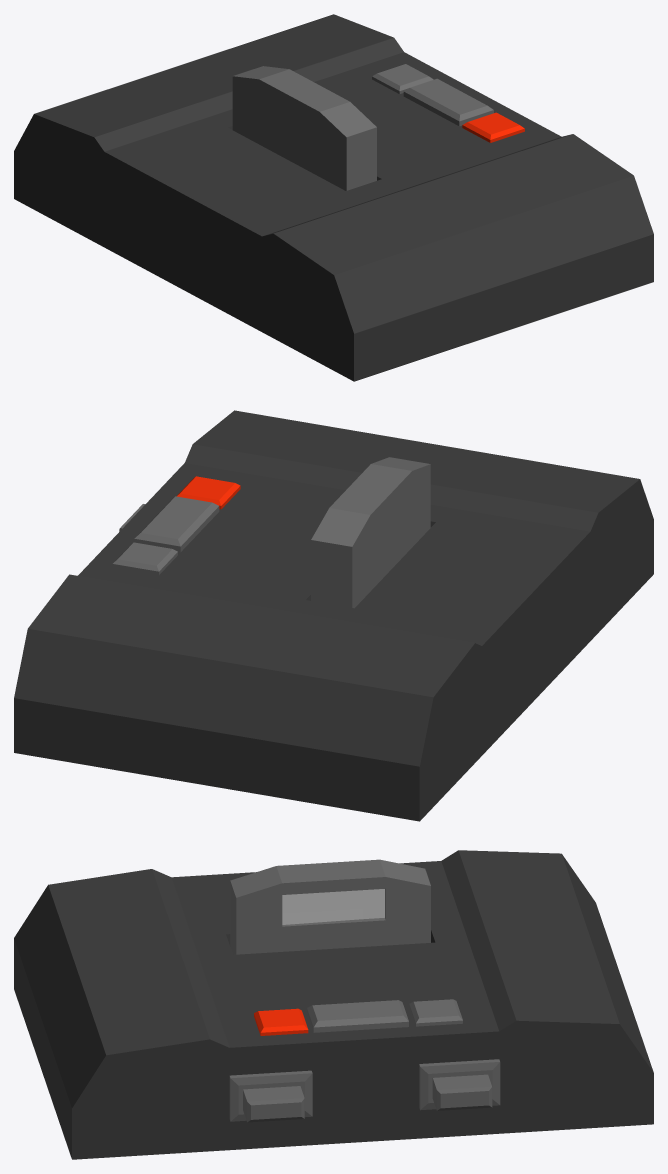
The model's file is Consola.fbx.
The picture shows the model from 3 angles, top to bottom: view 1: azimuth 30°, elevation 25°; view 2: azimuth 150°, elevation 25°; view 3: azimuth 270°, elevation 25°; orthographic projection. The views are drawn at different scales.
Parts seen in each view (by area): view 1: consola; view 2: consola; view 3: consola.
Part boxes in pixels (x1,y1,x2,y2): consola: (14,14,653,381); consola: (14,410,653,821); consola: (14,850,653,1159).
Size of the model in its own units: 0.4673 by 0.1743 by 0.597.
